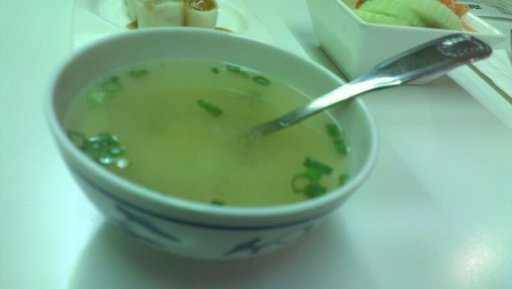soup: (66, 18, 369, 229)
